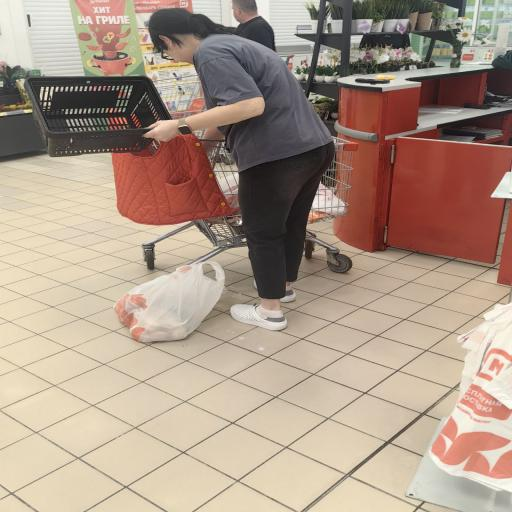shopping_cart: (143, 138, 359, 274), (153, 76, 205, 120)
